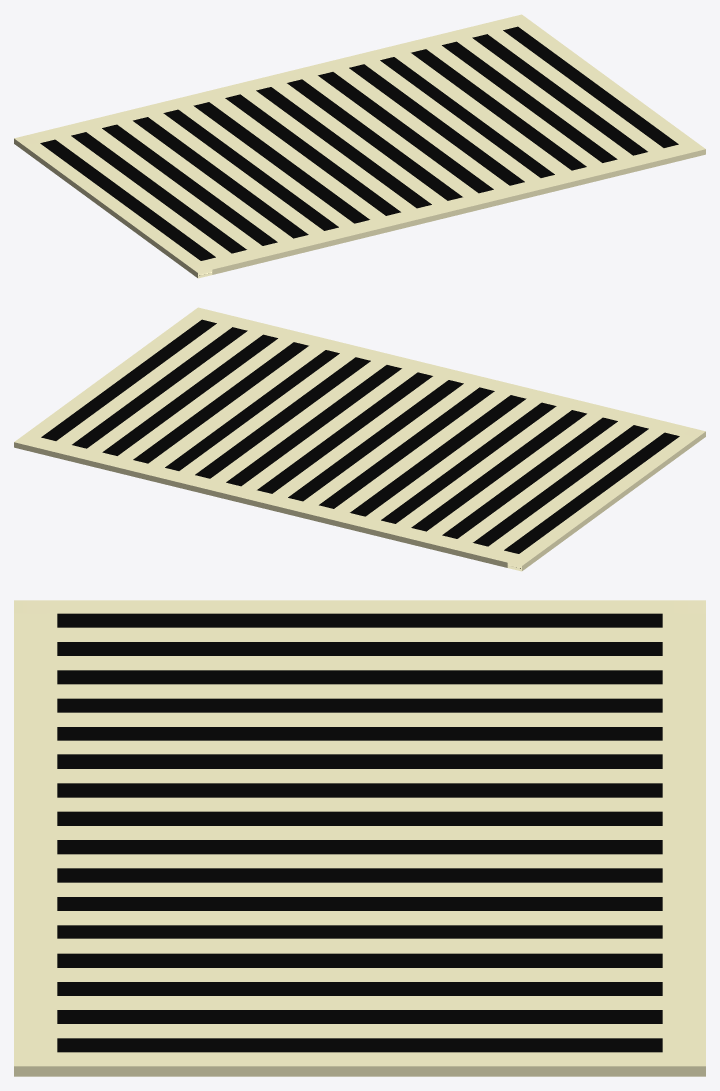
Rendered from PAPER.fbx.
3 views of the same model, one above another, from view 1: azimuth 30°, elevation 25°; view 2: azimuth 150°, elevation 25°; view 3: azimuth 270°, elevation 25° (orthographic). The views are drawn at different scales.
Parts seen in each view (by area): view 1: PAPER; view 2: PAPER; view 3: PAPER.
Part boxes in pixels (x1=…): PAPER: x1=14, y1=14, x2=705, y2=278; PAPER: x1=14, y1=307, x2=705, y2=571; PAPER: x1=14, y1=600, x2=705, y2=1076.
Size of the model in its own units: 89.64 by 0.9159 by 56.27.
